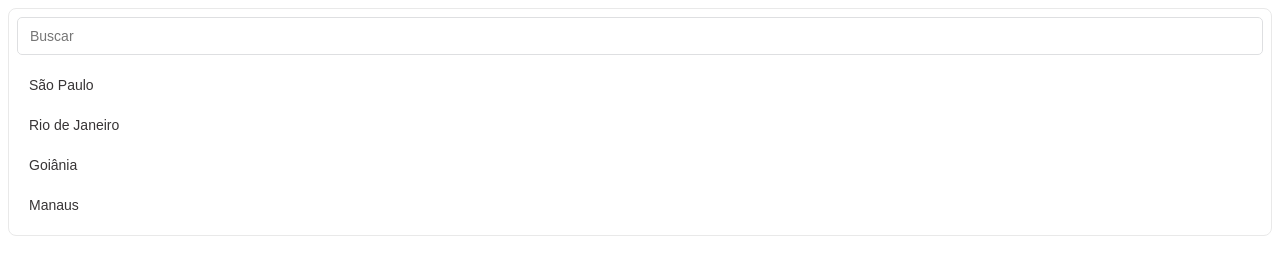
Test: List › filtra localmente ignorando acento
In the search field: x=640, y=36 [17,17,1263,55], type "goiania"
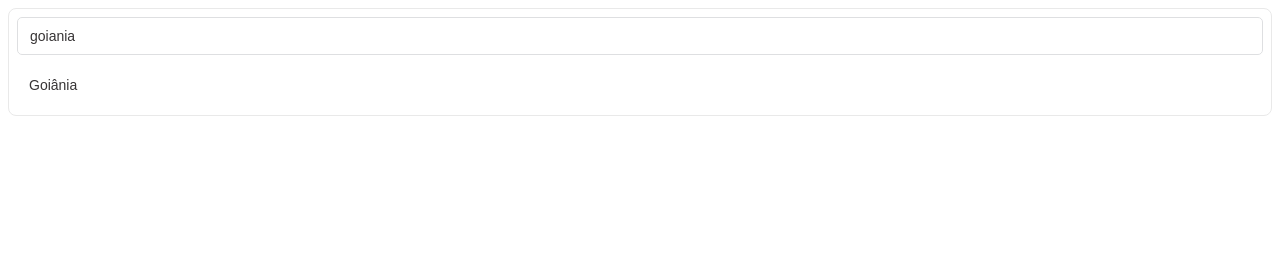
expect the list item "Goiânia" is shown: met, box [29,77,77,93]
expect the list item "Rio de Janeiro" is gone: met
